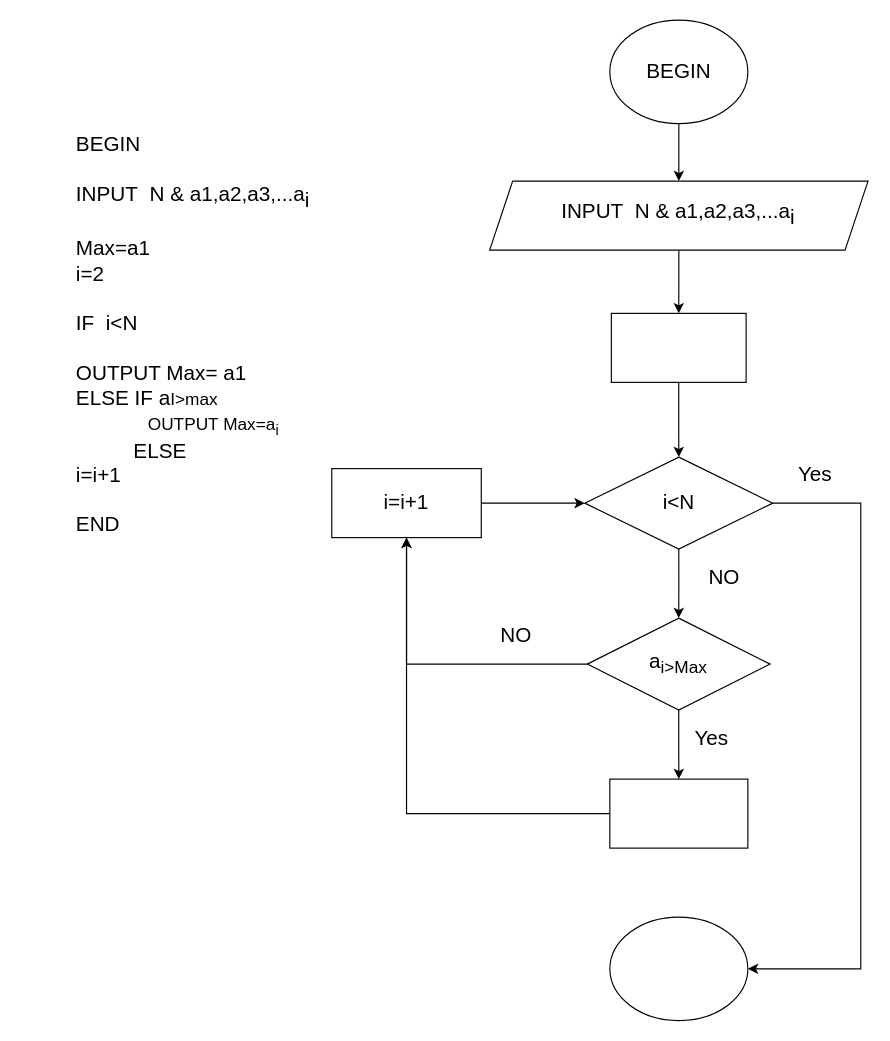
The diagram is 890 pixels wide and 1041 high, and some of its shapes have lost their labels. The box of each missing label's shape, as (x1, y1, x2, y2) in pixels:
END: (609, 916, 748, 1021)
Max=a1 i=2: (610, 312, 746, 382)
Max=ai: (609, 778, 748, 848)
